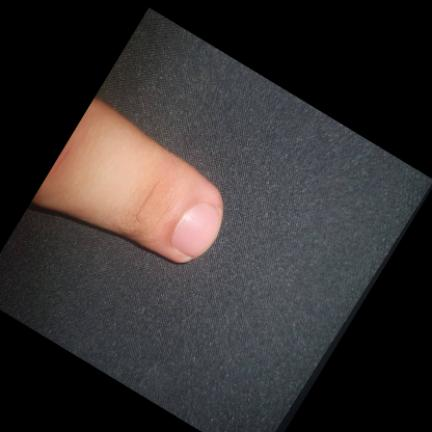Nail: (172, 204, 220, 258)
